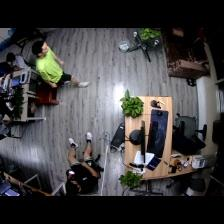normal: (29, 37, 89, 87), (64, 134, 102, 193), (4, 52, 25, 67)
